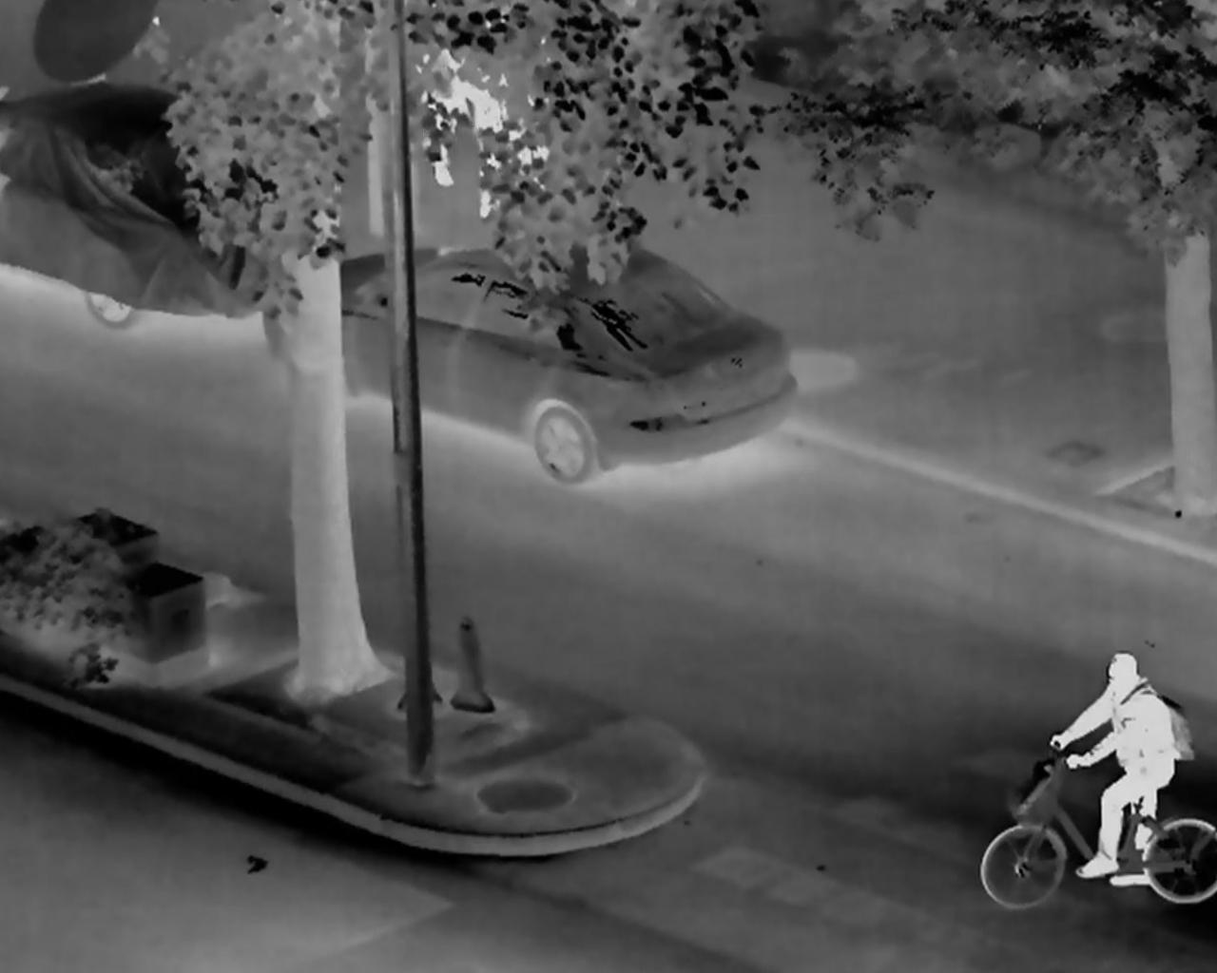person: (1049, 654, 1169, 887), (473, 58, 548, 218), (407, 35, 470, 189)
